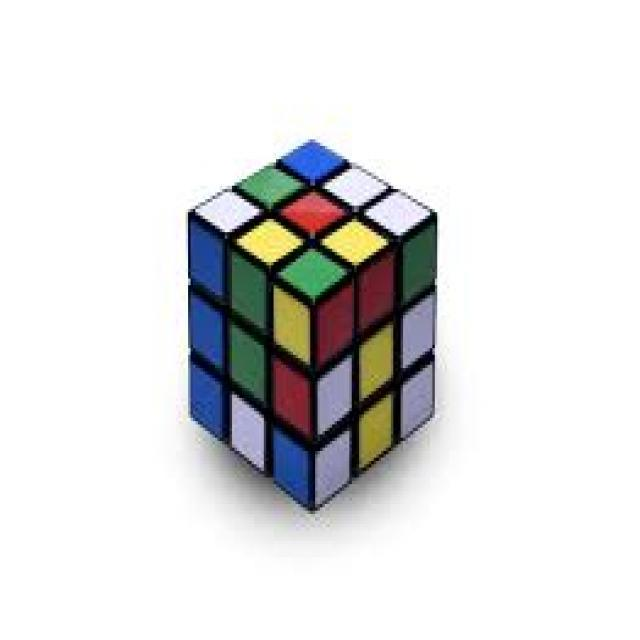Rub: (186, 137, 439, 512)
